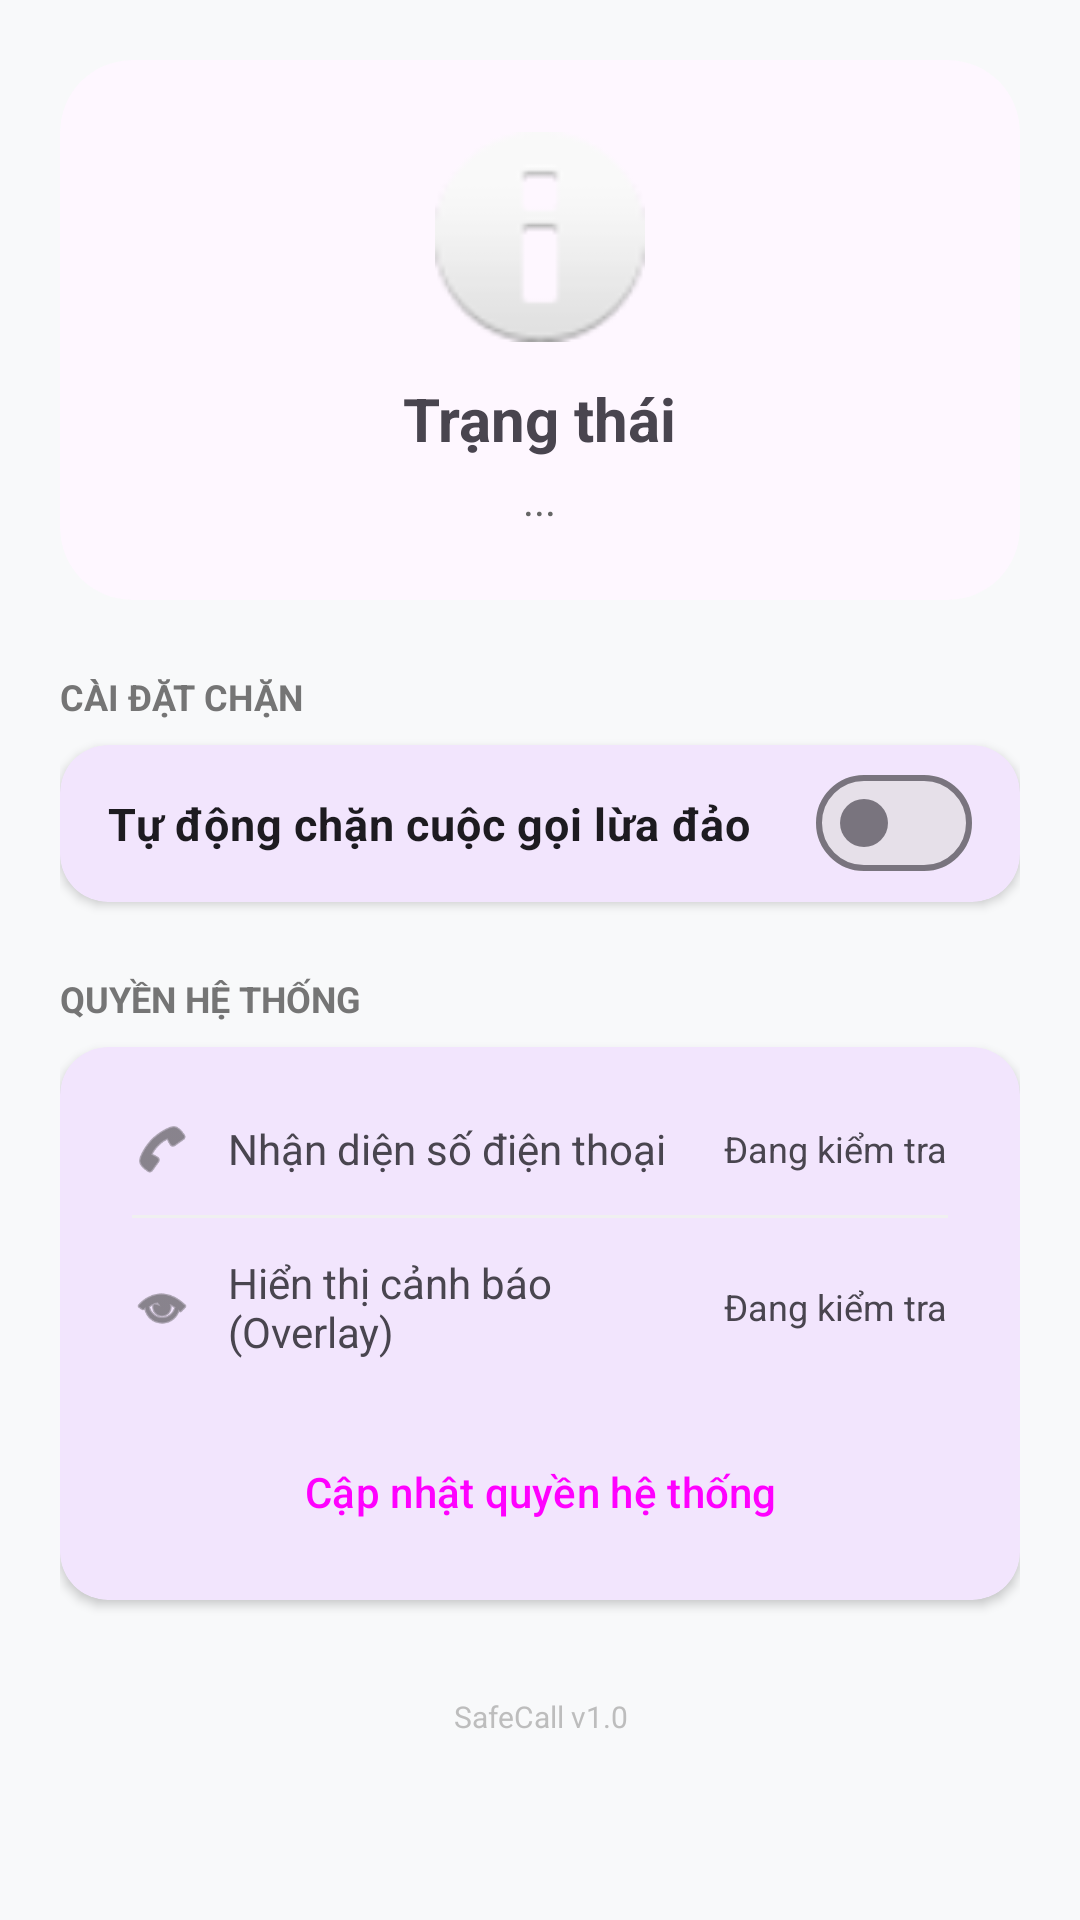

Named icons in this screenshot (1080 x 1920) and their centers, [x,y]:
call: [162,1149]
info: [540,256]
view: [162,1308]
